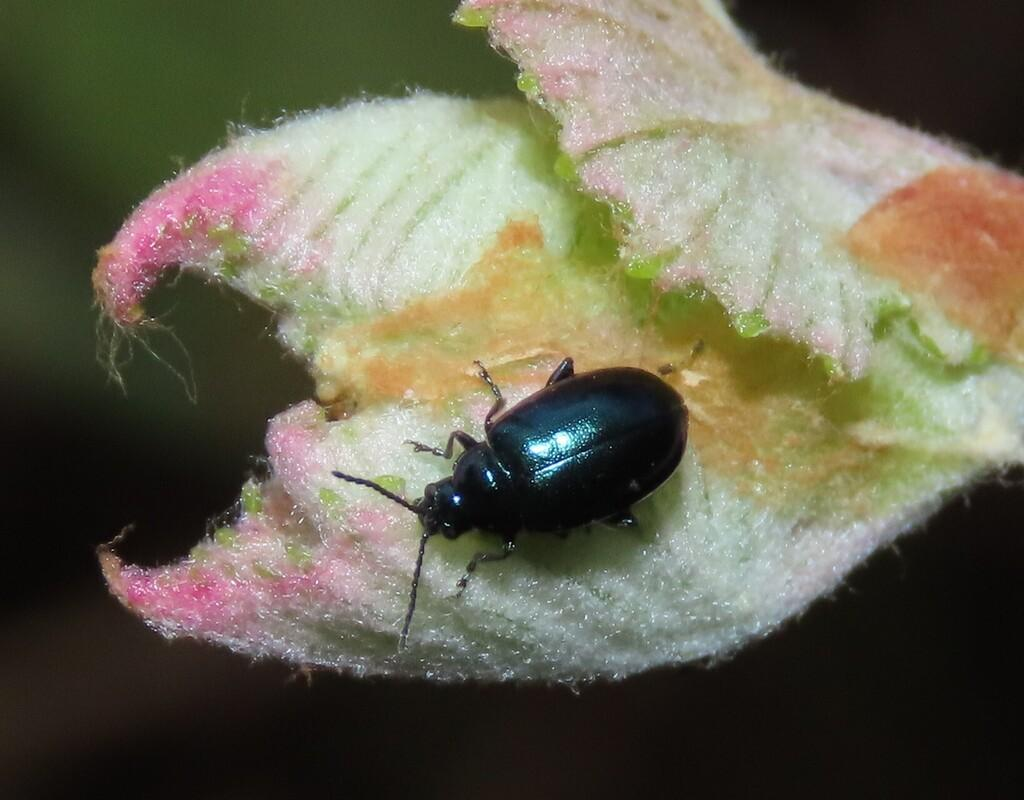flea_beetle: (298, 291, 734, 705)
